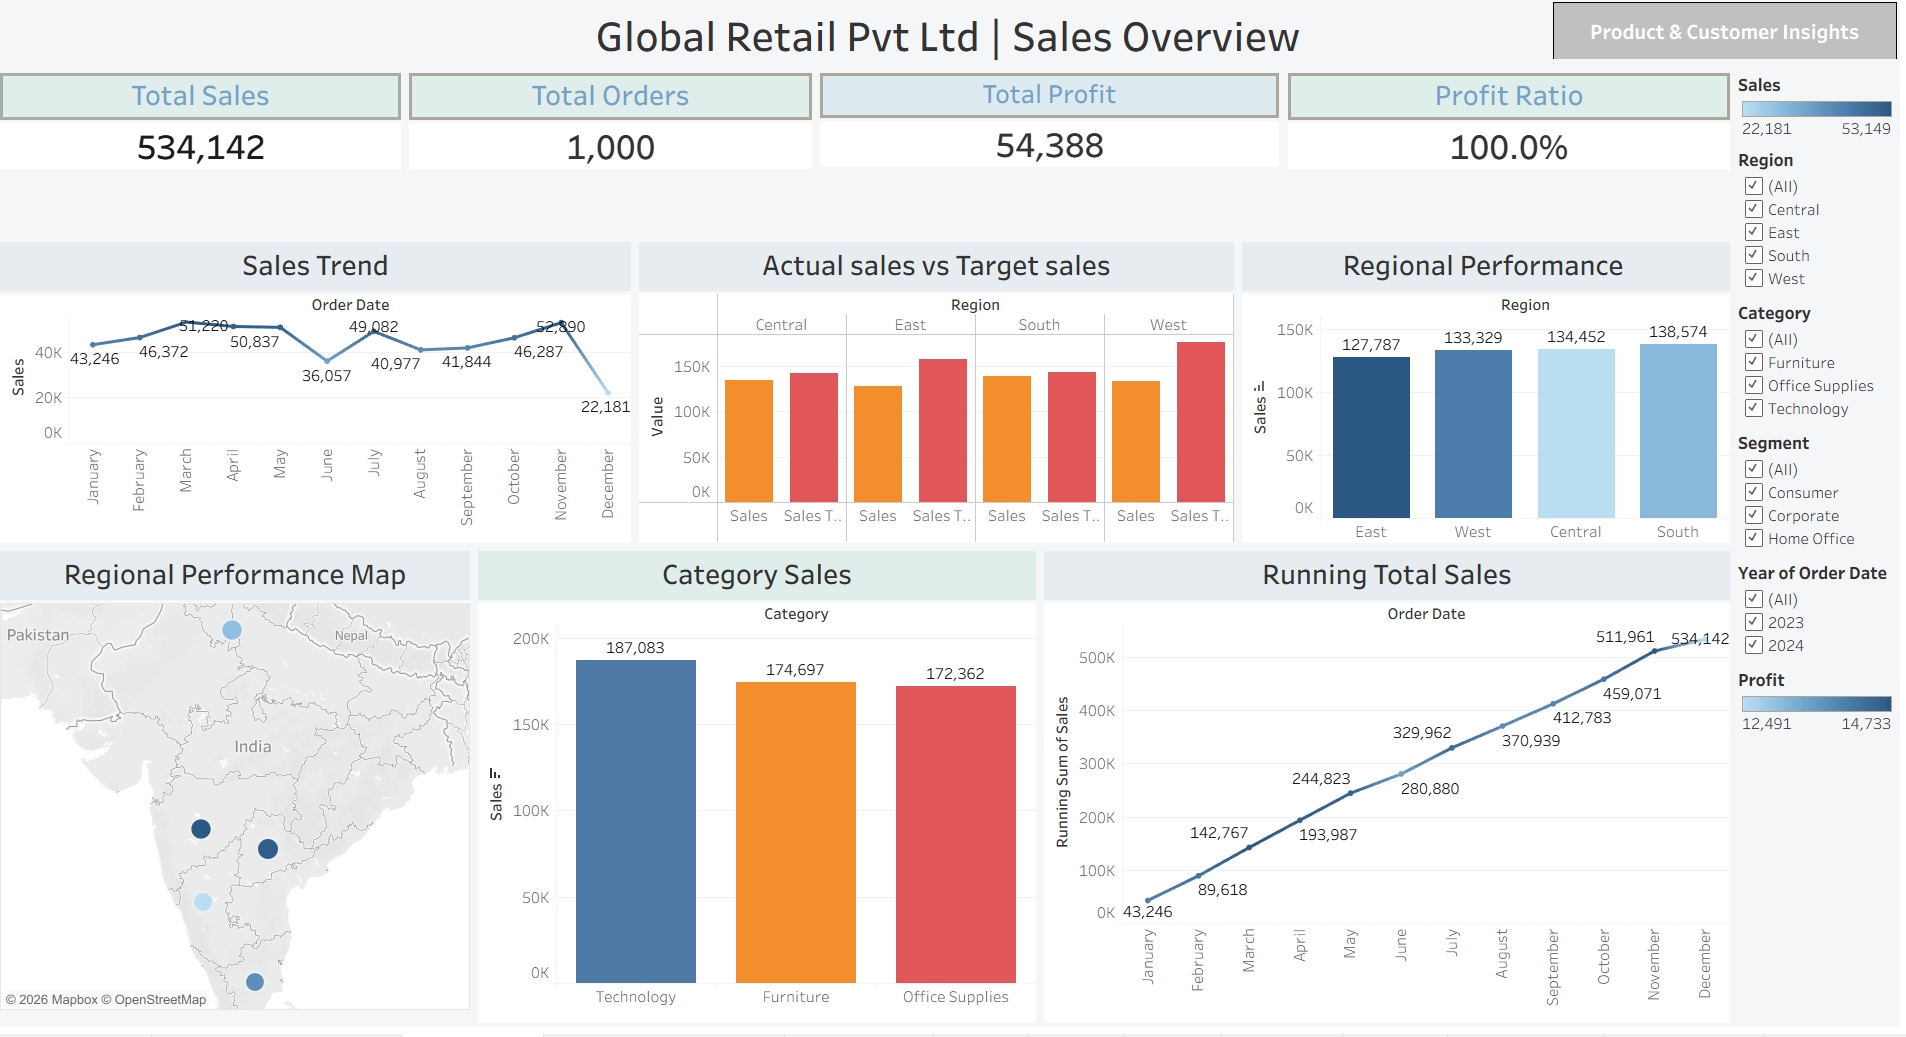

This screenshot's page, from the dashboard's own definition file:
{"tool":"tableau","page":{"name":"Sales Overview","canvas":[1000,1000],"units":"permille","ordinal":1},"visuals":[{"type":"title","box":[4.8,9.4,990.3,81.1]},{"type":"dashboard-object","box":[815.5,9.4,179.3,79.9]},{"type":"worksheet","title":"Total Sales","mark":"Automatic","box":[4.8,90.5,209.6,158.6]},{"type":"worksheet","title":"Total Orders","mark":"Automatic","box":[214.4,90.5,210.7,158.6]},{"type":"worksheet","title":"Total Profit","mark":"Automatic","box":[425.1,90.5,239.3,158.6]},{"type":"worksheet","title":"Profit Ratio","mark":"Automatic","box":[664.4,90.5,230.6,158.6]},{"type":"legend","title":"sales trend","param":"[federated.17eil131n0n49m1bcfd3j1uop5nj].[sum:Sales:qk]","box":[895,90.5,100.2,88.1]},{"type":"filter","title":"sales trend","param":"[federated.17eil131n0n49m1bcfd3j1uop5nj].[none:Region:nk]","box":[895,178.6,100.2,179.8]},{"type":"worksheet","title":"sales trend","mark":"Automatic","rows":["Sales"],"cols":["Order_Date"],"box":[4.8,249.1,327.4,290.2]},{"type":"worksheet","title":"Actual sales vs Target sales","mark":"Automatic","cols":["Region"],"box":[332.3,249.1,308.6,290.2]},{"type":"worksheet","title":"Regional Performance ","mark":"Automatic","rows":["Sales"],"cols":["Region"],"box":[640.9,249.1,254.1,290.2]},{"type":"filter","title":"Category Sales","param":"[federated.17eil131n0n49m1bcfd3j1uop5nj].[none:Category:nk]","box":[895,358.4,100.2,152.8]},{"type":"filter","title":"sales trend","param":"[federated.17eil131n0n49m1bcfd3j1uop5nj].[none:Segment:nk]","box":[895,511.2,100.2,152.8]},{"type":"worksheet","title":"Regional Performance Map","mark":"Automatic","box":[4.8,539.4,244.8,451.2]},{"type":"worksheet","title":"Category Sales","mark":"Automatic","rows":["Sales"],"cols":["Category"],"box":[249.7,539.4,289.7,451.2]},{"type":"worksheet","title":"Running Total Sales","mark":"Automatic","rows":["Sales"],"cols":["Order_Date"],"box":[539.4,539.4,355.6,451.2]},{"type":"filter","title":"sales trend","param":"[federated.17eil131n0n49m1bcfd3j1uop5nj].[yr:Order_Date:ok]","box":[895,663.9,100.2,125.7]},{"type":"legend","title":"Regional Performance ","param":"[federated.17eil131n0n49m1bcfd3j1uop5nj].[sum:Profit:qk]","box":[895,789.6,100.2,88.1]}]}

Visuals, with their boxes on the dashboard's canvas, which has no fixed pixel size, in thousandths of its width and height (x1, y1, x2, y2). These are canvas units, not pixel positions in the 1906x1037 screenshot, which may show the page scaled, cropped or inside an application window:
title: bbox(5, 9, 995, 90)
dashboard-object: bbox(816, 9, 995, 89)
"Total Sales" worksheet: bbox(5, 90, 214, 249)
"Total Orders" worksheet: bbox(214, 90, 425, 249)
"Total Profit" worksheet: bbox(425, 90, 664, 249)
"Profit Ratio" worksheet: bbox(664, 90, 895, 249)
"sales trend" legend: bbox(895, 90, 995, 179)
"sales trend" filter: bbox(895, 179, 995, 358)
"sales trend" worksheet: bbox(5, 249, 332, 539)
"Actual sales vs Target sales" worksheet: bbox(332, 249, 641, 539)
"Regional Performance " worksheet: bbox(641, 249, 895, 539)
"Category Sales" filter: bbox(895, 358, 995, 511)
"sales trend" filter: bbox(895, 511, 995, 664)
"Regional Performance Map" worksheet: bbox(5, 539, 250, 991)
"Category Sales" worksheet: bbox(250, 539, 539, 991)
"Running Total Sales" worksheet: bbox(539, 539, 895, 991)
"sales trend" filter: bbox(895, 664, 995, 790)
"Regional Performance " legend: bbox(895, 790, 995, 878)
